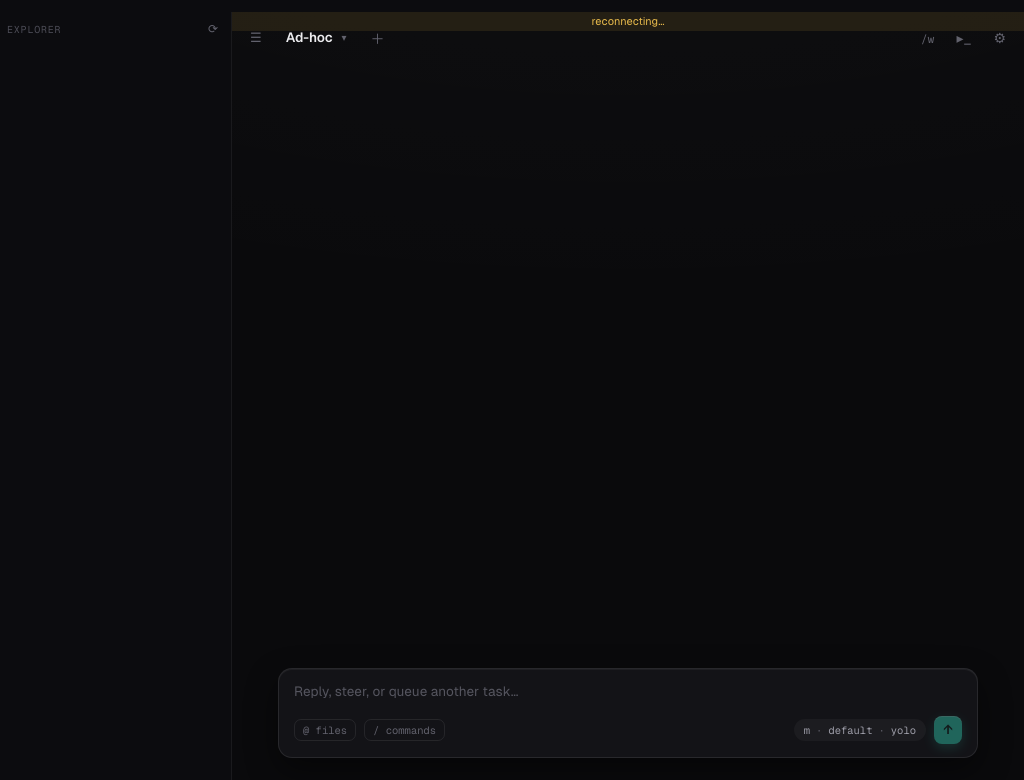
App › renders events pushed through the store
The session row now lives in the projects menu behind the sidebar header.
Click the button with aria-label "Toggle projects menu" at coordinates (316, 38), box [278,26,355,50]
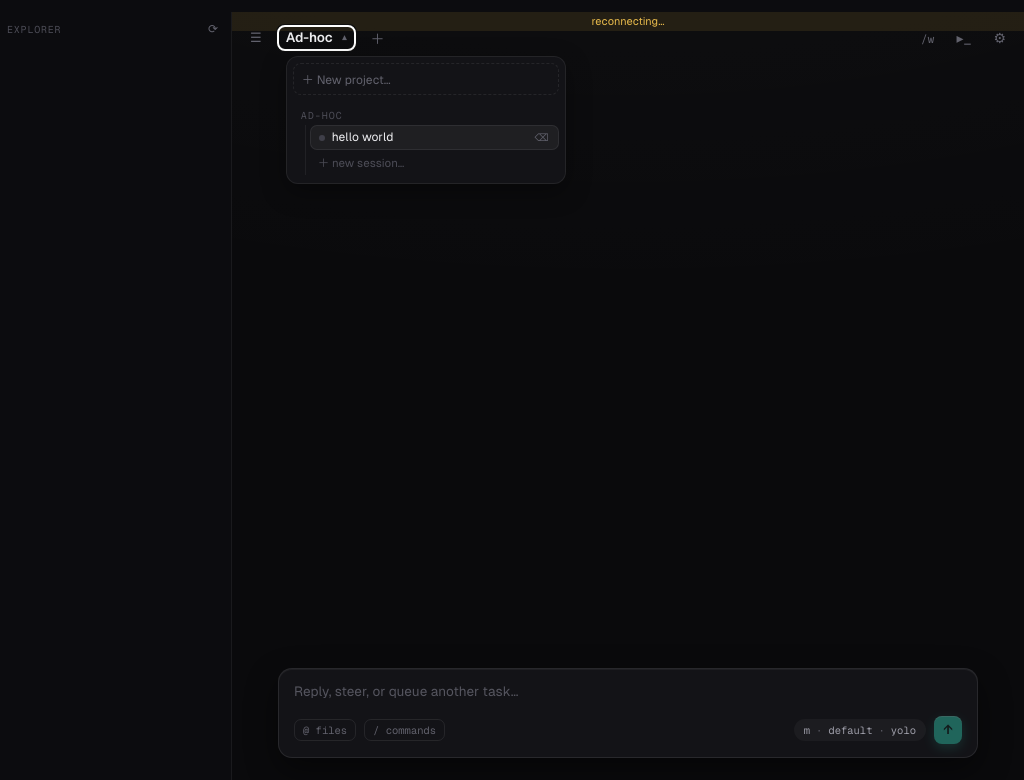
Check: the text "hello world" is shown, box [332,130,394,145]
